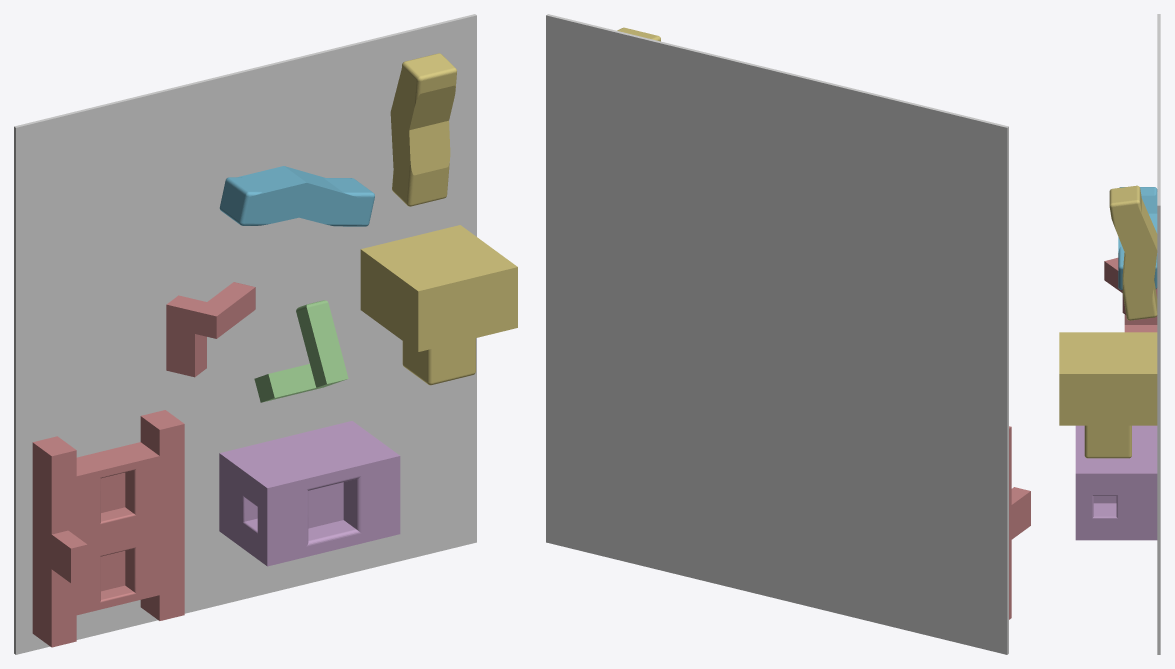
Rendered from pickup_layout.glb.
The picture shows the model from 3 angles, left to right: view 1: azimuth 30°, elevation 25°; view 2: azimuth 150°, elevation 25°; view 3: azimuth 270°, elevation 25°; orthographic projection. The views are drawn at different scales.
Visible parts, largest first — view 1: world, 0.obj, 3.obj, 6.obj, 1.obj, 2.obj, 5.obj, 4.obj; view 2: world, 0.obj; view 3: 6.obj, 3.obj, 1.obj, world, 2.obj, 0.obj, 5.obj.
Boxes of the visible parts, x1,y1,x2,y2 form: world: (14, 14, 476, 654); 0.obj: (32, 410, 184, 647); 3.obj: (219, 421, 400, 566); 6.obj: (360, 225, 517, 385); 1.obj: (390, 53, 456, 206); 2.obj: (219, 166, 374, 226); 5.obj: (166, 282, 255, 377); 4.obj: (254, 300, 348, 402); world: (546, 14, 1008, 654); 0.obj: (1009, 426, 1030, 619); 6.obj: (1059, 332, 1157, 458); 3.obj: (1075, 425, 1157, 540); 1.obj: (1109, 185, 1157, 320); world: (1157, 14, 1160, 654); 2.obj: (1118, 187, 1157, 289); 0.obj: (1124, 314, 1157, 332); 5.obj: (1104, 257, 1157, 320).
Bounding box in the file's own units: 27.75 × 30.32 × 6.2.
